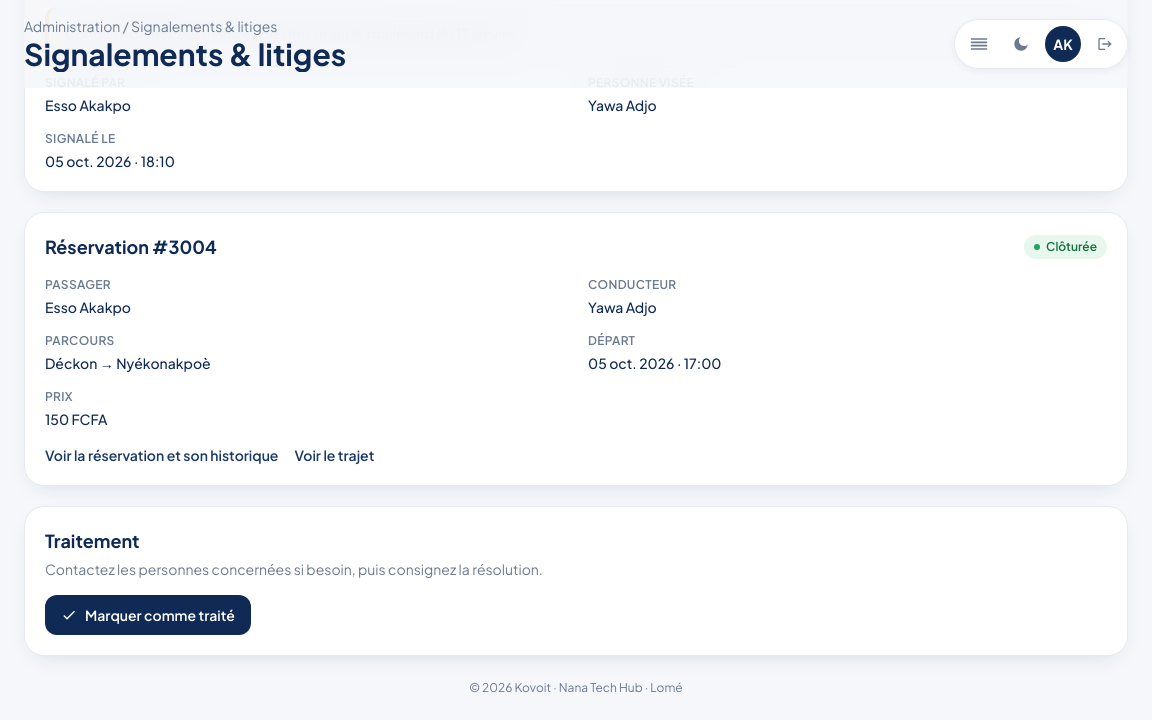
signalements et litiges › traite un signalement simple avec une résolution obligatoire
(page scrolled)
Click the button "Marquer comme traité" at (148, 615), box [45,595,251,635]
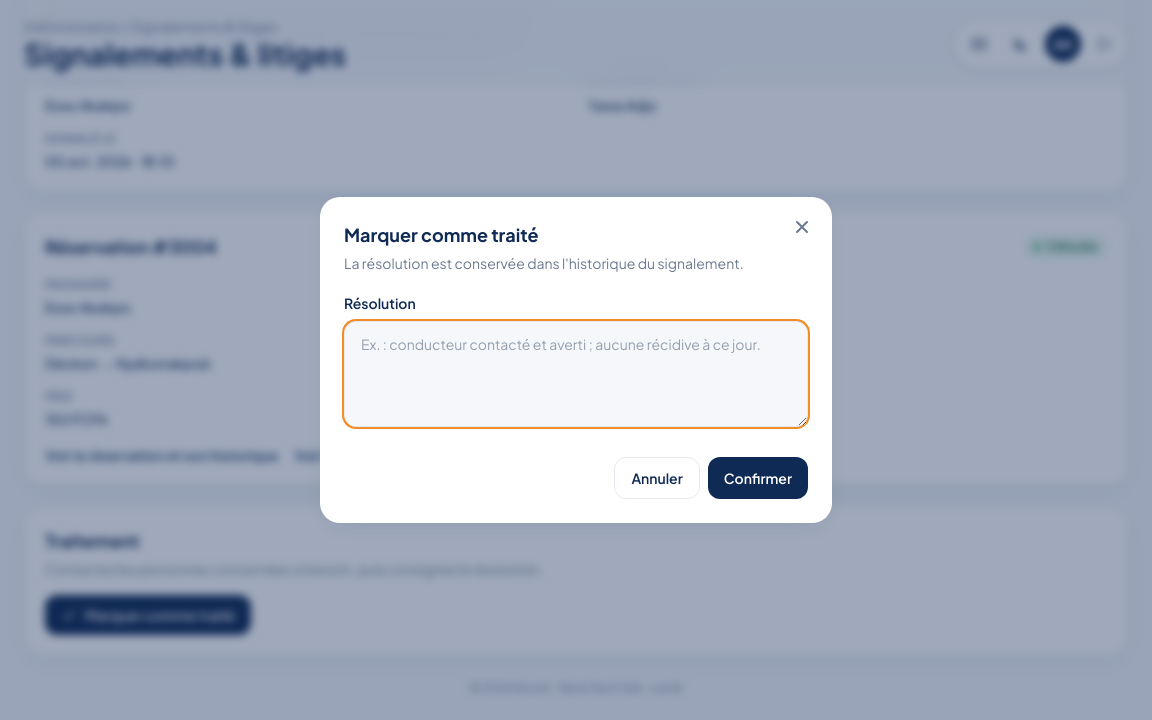
Click the button "Confirmer" at (758, 478), box [708,457,808,499]
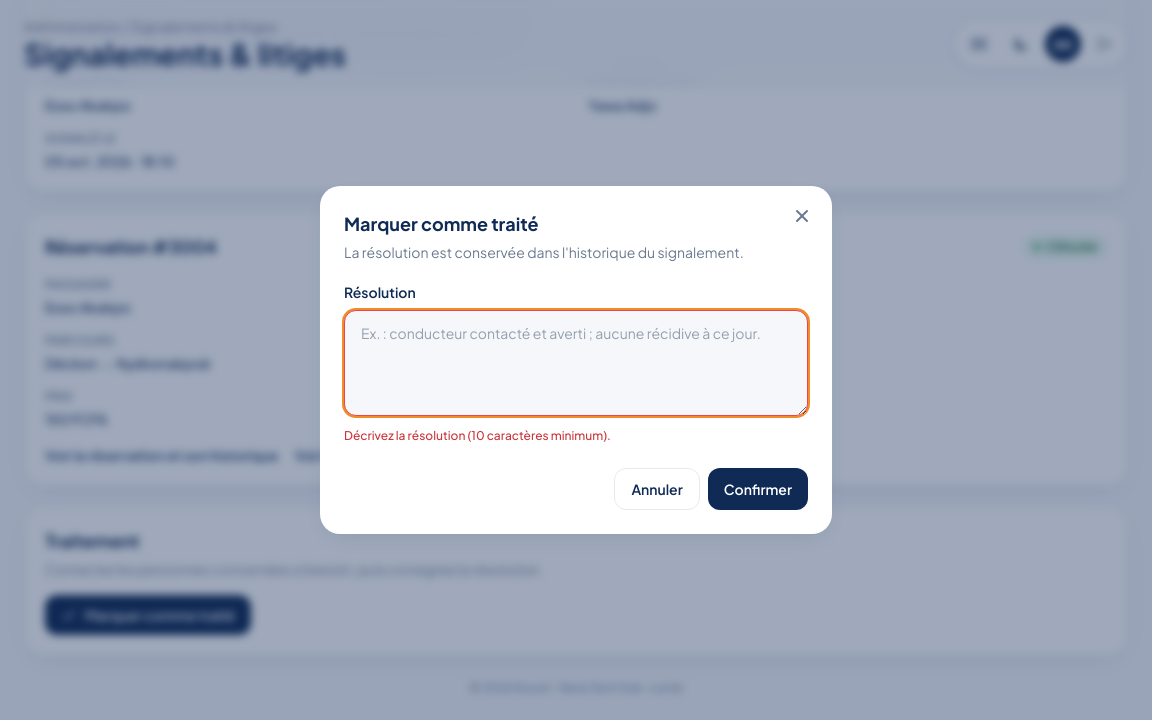
Expected: the text "Décrivez la résolution (10 caractères minimum)." is shown, [344,428,611,443]
Type "Conducteur contacté et averti." into the text box labelled "Résolution" at (576, 363), box [344,310,808,416]
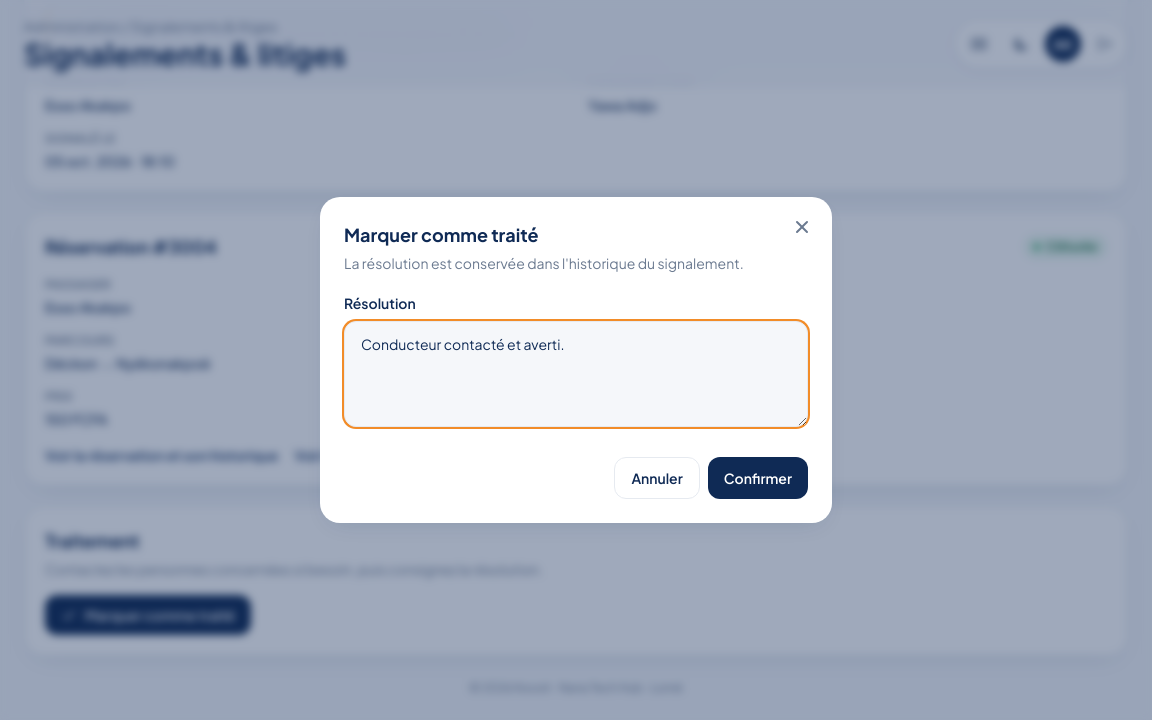
Click the button "Confirmer" at (758, 478), box [708,457,808,499]
(page scrolled)
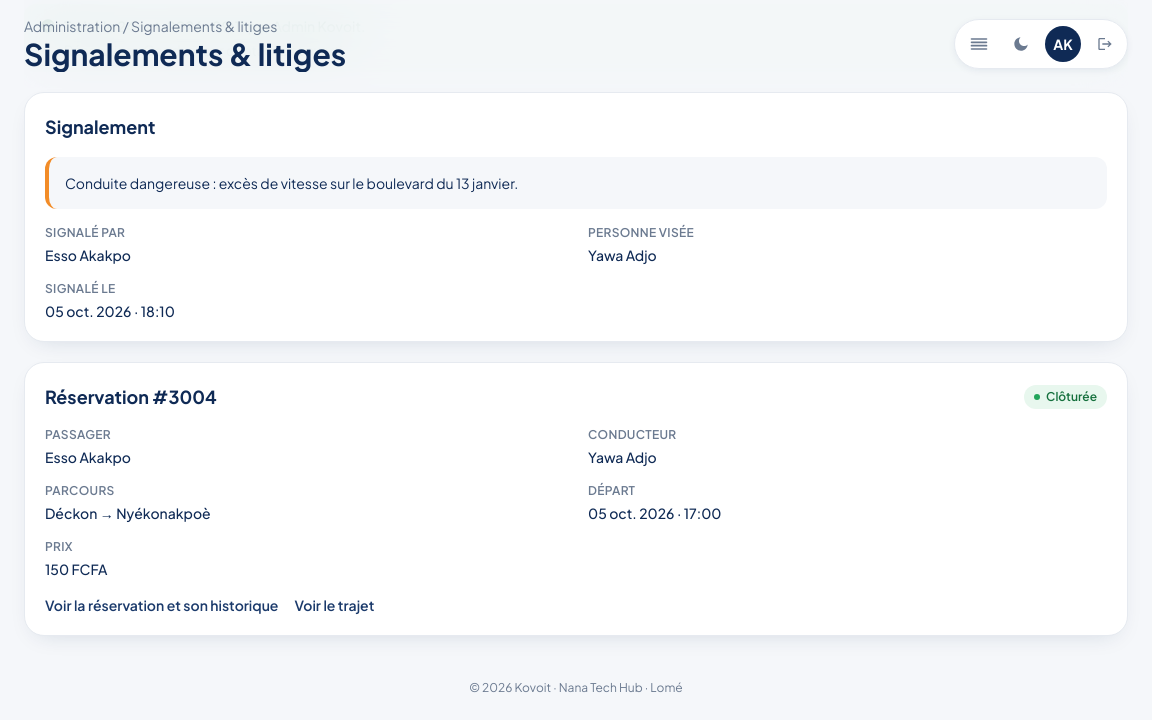
Expected: the text "Résolution : Conducteur contacté et averti." is shown, [64,40,365,60]
Expected: the button "Marquer comme traité" is gone
